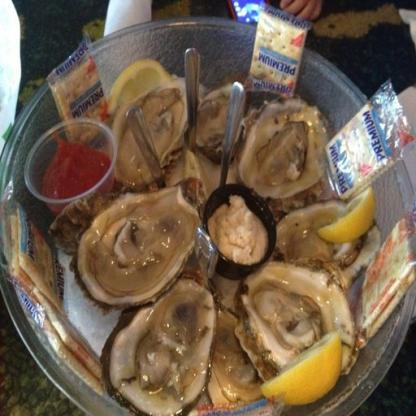oyster: (236, 257, 359, 370), (111, 281, 212, 415), (89, 188, 196, 298), (237, 93, 329, 194), (112, 88, 191, 187)
